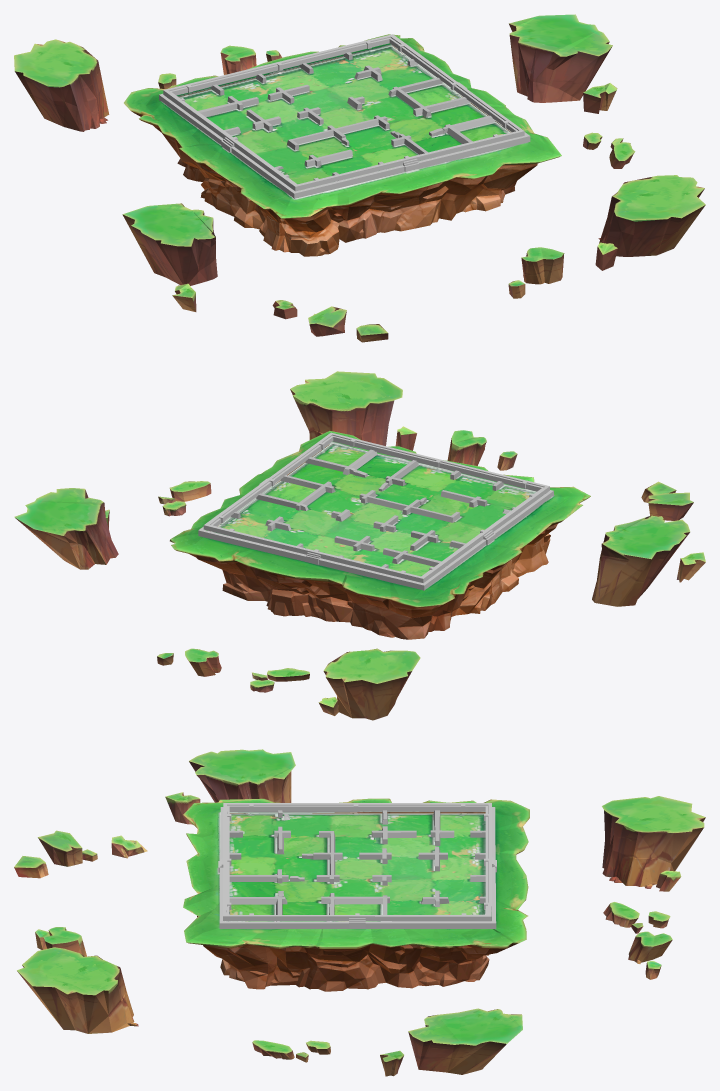
Rendered from mappa_completa.obj.
The picture shows the model from 3 angles, top to bottom: view 1: azimuth 30°, elevation 25°; view 2: azimuth 150°, elevation 25°; view 3: azimuth 270°, elevation 25°; orthographic projection. The views are drawn at different scales.
Parts seen in each view (by area): view 1: Islands_0, Cliff_0, Board_0, OuterWall1_0, InnerWalls_0, OuterWall2_0; view 2: Islands_0, Cliff_0, Board_0, OuterWall1_0, InnerWalls_0, OuterWall2_0; view 3: Islands_0, Cliff_0, Board_0, OuterWall1_0, InnerWalls_0, OuterWall2_0.
Boxes of the visible parts, box(x1,y1,x2,y2) form: Islands_0: box(14, 14, 705, 342); Cliff_0: box(124, 34, 561, 256); Board_0: box(173, 45, 510, 184); OuterWall1_0: box(163, 34, 524, 191); InnerWalls_0: box(198, 52, 495, 175); OuterWall2_0: box(159, 46, 530, 198); Islands_0: box(14, 371, 705, 720); Cliff_0: box(170, 431, 590, 639); Board_0: box(211, 442, 535, 576); OuterWall1_0: box(203, 432, 549, 582); InnerWalls_0: box(230, 449, 514, 568); OuterWall2_0: box(198, 441, 553, 590); Islands_0: box(14, 749, 705, 1076); Cliff_0: box(183, 798, 529, 991); Board_0: box(224, 813, 485, 921); OuterWall1_0: box(218, 803, 496, 928); InnerWalls_0: box(229, 810, 485, 921); OuterWall2_0: box(219, 807, 496, 928).
Size of what is drawn, in the model's own units: 31.98 by 4.26 by 33.21.
6 materials, 3 textured.
